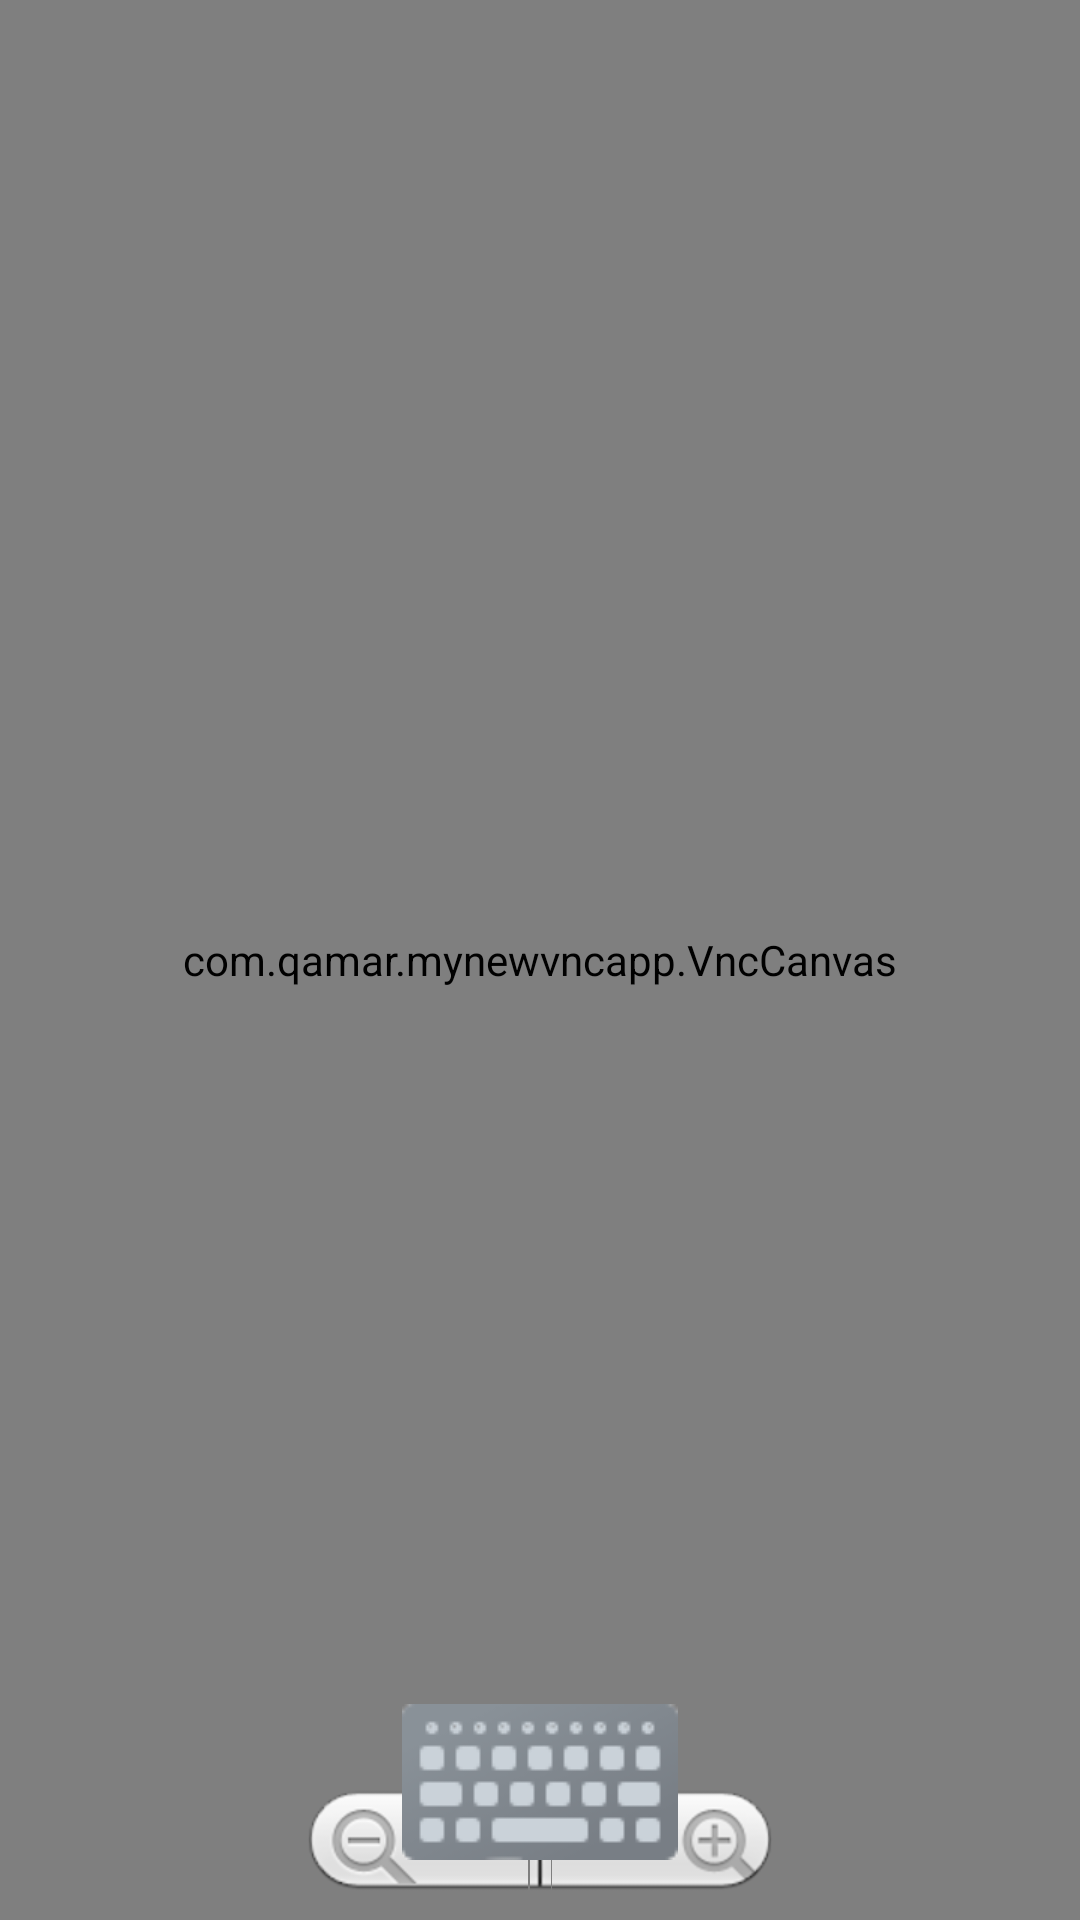

Icons on this 1080x1920 Android screen, each with the point to tap as point (x, y):
keyboard: point (540, 1782)
